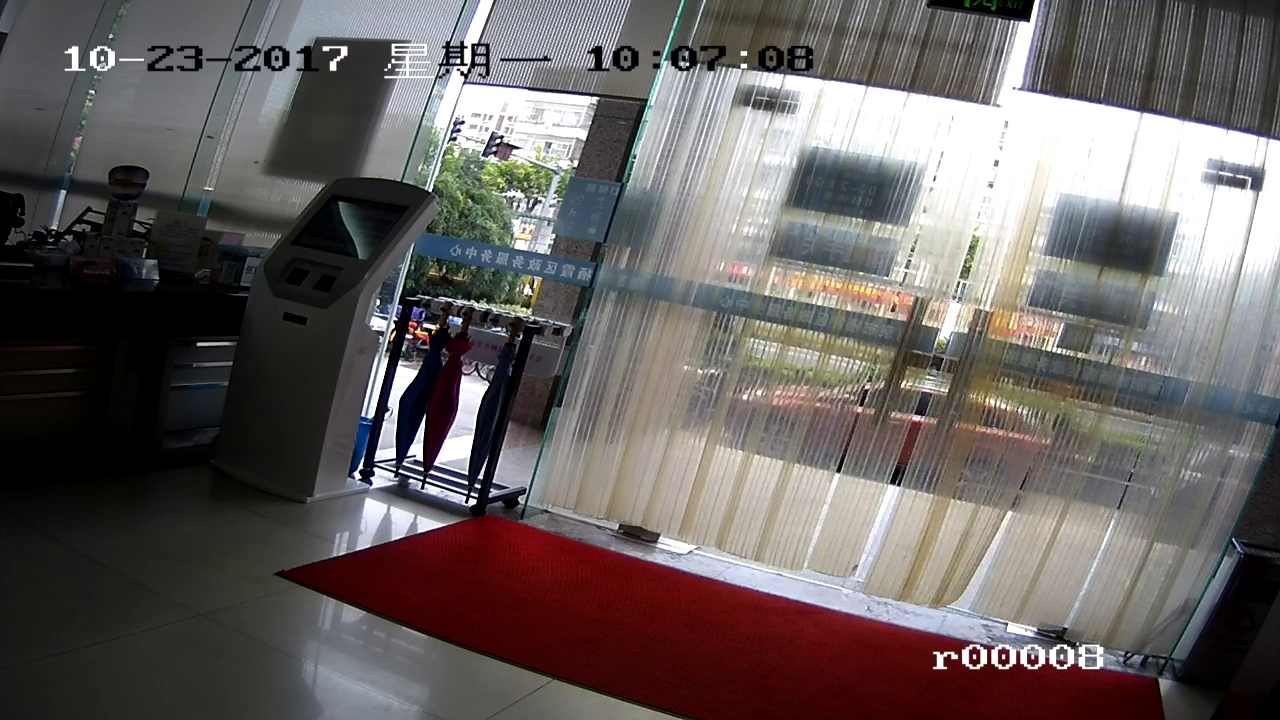billboard: (1050, 184, 1160, 281), (799, 141, 911, 223)
monitor: (301, 189, 392, 265)
